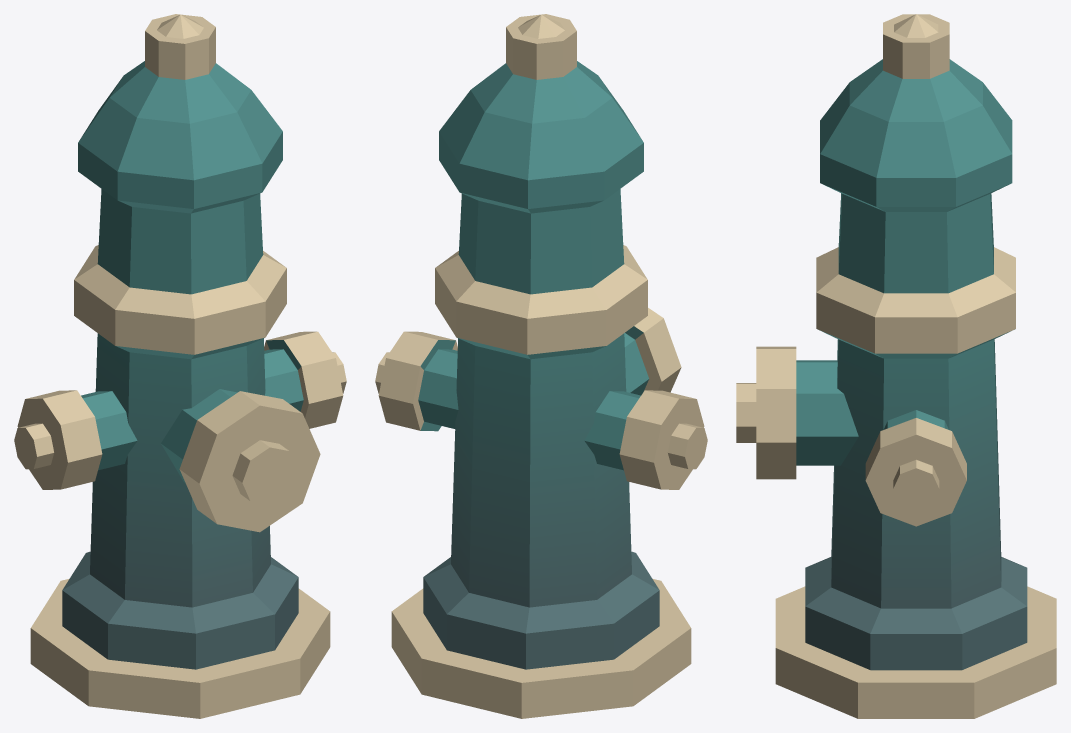
File: KC32__AD_Ext_Hydrant.glb
3 views of the same model, side by side, from view 1: azimuth 30°, elevation 25°; view 2: azimuth 150°, elevation 25°; view 3: azimuth 270°, elevation 25° (orthographic).
Parts seen in each view (by area): view 1: KC32_CORPS__AD_Ext_Hydrant, KC32_BRONZE__AD_Ext_Hydrant; view 2: KC32_CORPS__AD_Ext_Hydrant, KC32_BRONZE__AD_Ext_Hydrant; view 3: KC32_CORPS__AD_Ext_Hydrant, KC32_BRONZE__AD_Ext_Hydrant.
Boxes of the visible parts, <box> form: KC32_CORPS__AD_Ext_Hydrant: <box>62,61,303,669</box>; KC32_BRONZE__AD_Ext_Hydrant: <box>14,14,346,718</box>; KC32_CORPS__AD_Ext_Hydrant: <box>418,61,659,669</box>; KC32_BRONZE__AD_Ext_Hydrant: <box>375,14,707,718</box>; KC32_CORPS__AD_Ext_Hydrant: <box>796,59,1027,670</box>; KC32_BRONZE__AD_Ext_Hydrant: <box>736,14,1056,718</box>.
Size of the model in its own units: 0.45 by 0.89 by 0.4005.
